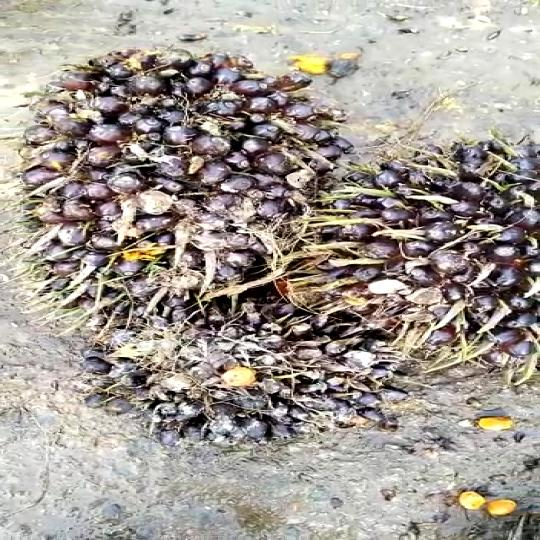mentah: (13, 51, 540, 437)
